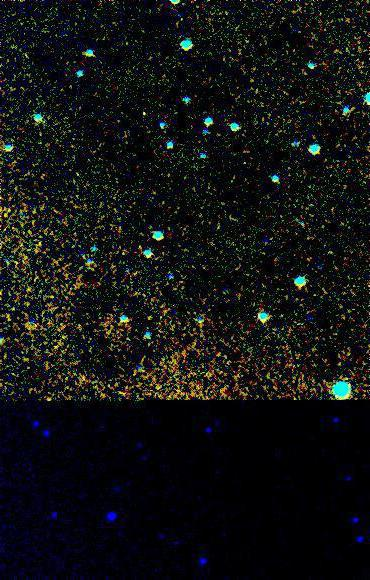star: (128, 97, 158, 127)
